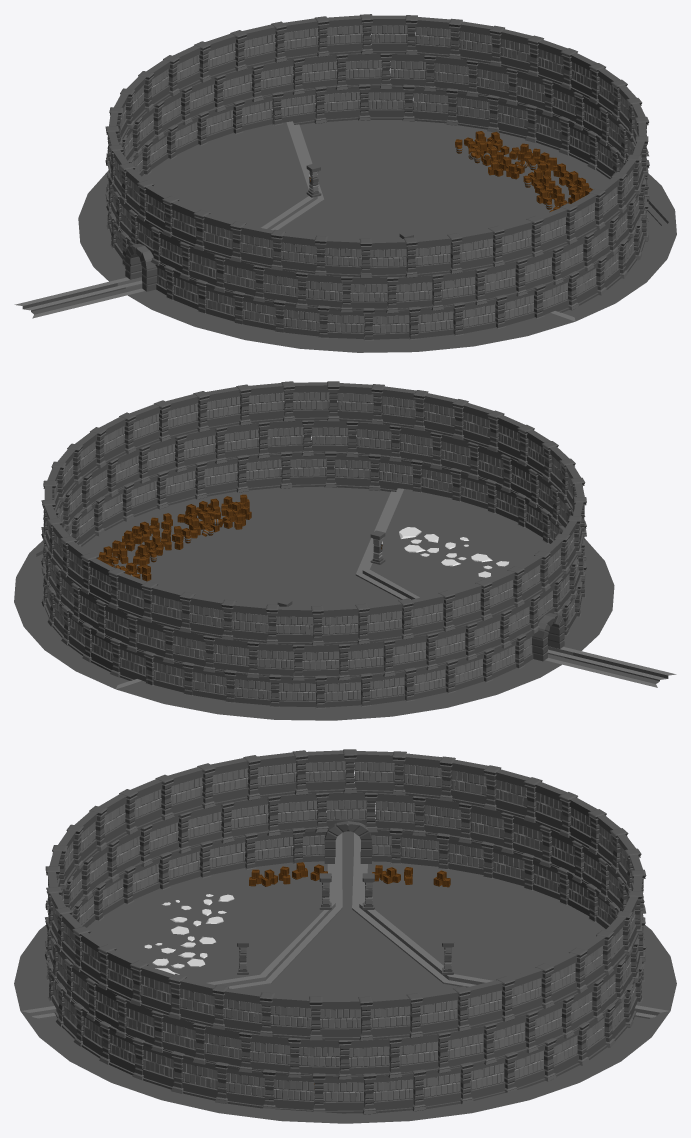
The model's file is duengeon.fbx.
The picture shows the model from 3 angles, top to bottom: view 1: azimuth 30°, elevation 25°; view 2: azimuth 150°, elevation 25°; view 3: azimuth 270°, elevation 25°; orthographic projection. The views are drawn at different scales.
Visible parts, largest first — view 1: zemin arena, arena duvar.003, arena duvar.001, arena duvar.002, kapı; view 2: zemin arena, arena duvar.003, arena duvar.001, arena duvar.002, kapı; view 3: zemin arena, arena duvar.003, arena duvar.001, arena duvar.002, kapı.
Boxes of the visible parts, x1=… form: zemin arena: x1=14, y1=101, x2=676, y2=352; arena duvar.003: x1=105, y1=14, x2=648, y2=278; arena duvar.001: x1=106, y1=53, x2=649, y2=313; arena duvar.002: x1=105, y1=84, x2=648, y2=340; kapı: x1=125, y1=243, x2=157, y2=291; zemin arena: x1=14, y1=468, x2=676, y2=720; arena duvar.003: x1=41, y1=381, x2=586, y2=646; arena duvar.001: x1=41, y1=420, x2=586, y2=680; arena duvar.002: x1=41, y1=451, x2=586, y2=708; kapı: x1=532, y1=613, x2=564, y2=661; zemin arena: x1=14, y1=831, x2=676, y2=1123; arena duvar.003: x1=45, y1=749, x2=646, y2=1041; arena duvar.001: x1=45, y1=792, x2=645, y2=1079; arena duvar.002: x1=45, y1=827, x2=646, y2=1114; kapı: x1=324, y1=821, x2=371, y2=863.
Size of the model in its own units: 15266 by 2431 by 12932.
